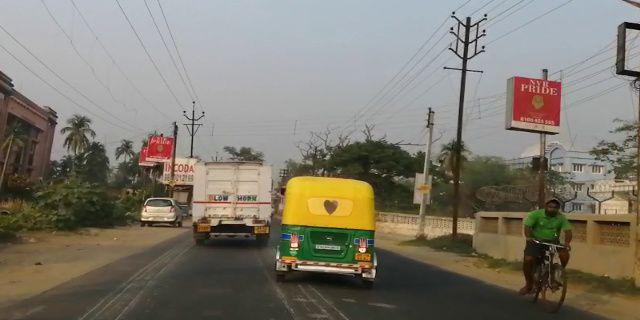Autorickshaw: (275, 172, 379, 285)
Car: (138, 195, 181, 232)
Cycle: (510, 194, 574, 313)
Minitruck: (189, 158, 275, 246)
